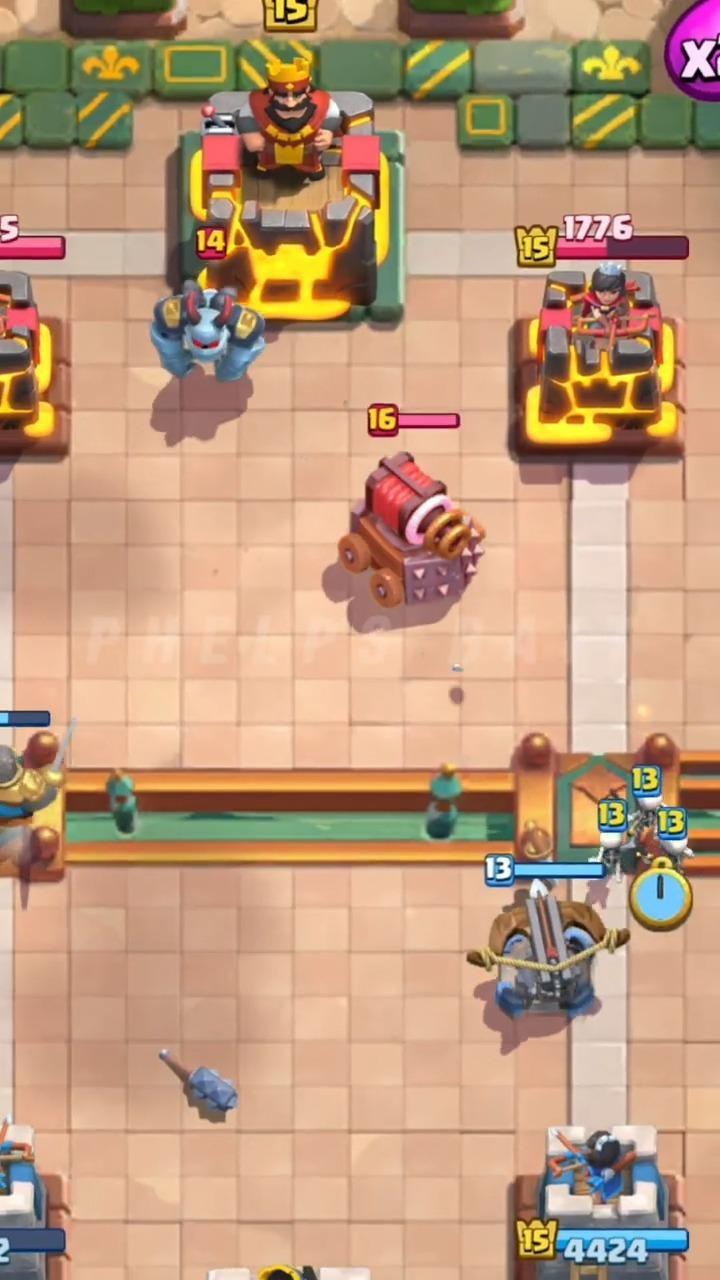knight: (0, 729, 71, 849)
mega minion: (151, 280, 264, 381)
skeletons: (590, 766, 694, 882)
sparky: (337, 452, 484, 608)
x-bow: (467, 866, 629, 1018)
